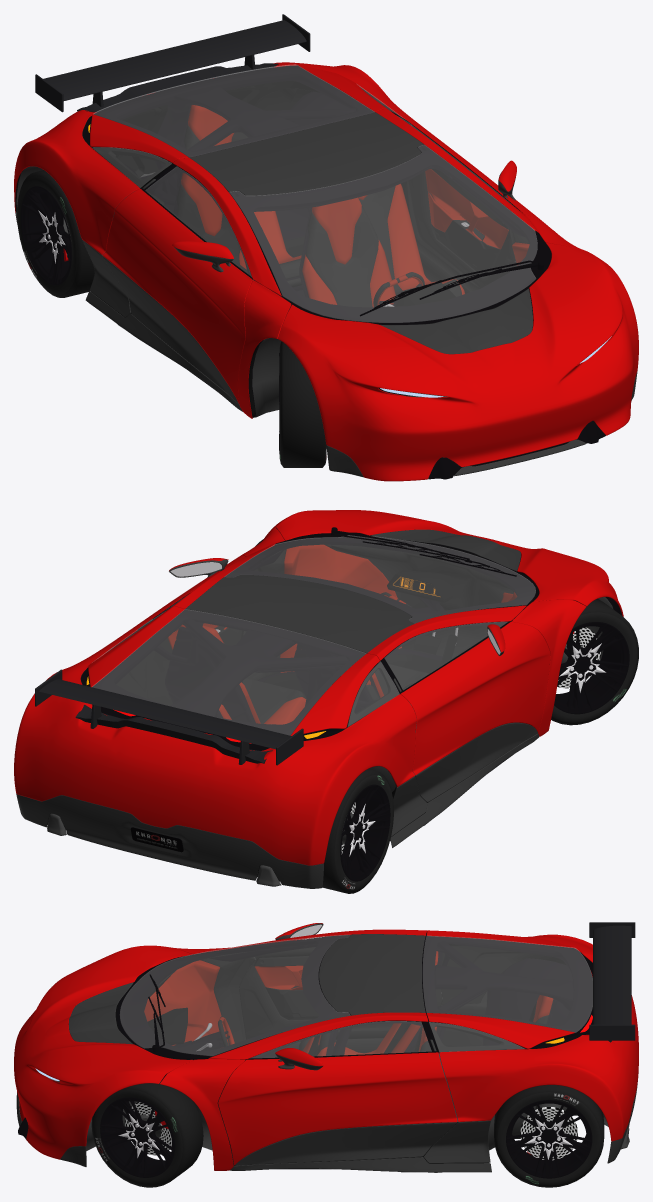
The picture shows the model from 3 angles, top to bottom: view 1: azimuth 30°, elevation 25°; view 2: azimuth 150°, elevation 25°; view 3: azimuth 270°, elevation 25°; orthographic projection. The views are drawn at different scales.
Parts seen in each view (by area): view 1: BodyHood, BodyWindshield, BodyRearwindow, BodyDoorRColor1, BodyRearPanelsColor1, BodyRoofPanel, BodyWindshieldGasket, InteriorSeatsColor1, InteriorSeatsColor2, BodyPillars, SpojlerKrilo_krilo, InteriorPillar (+23 smaller); view 2: BodyRearPanelsColor1, BodyRearwindow, BodyWindshield, BodyDoorRColor1, BodyPanelsColor2, BodyRoofPanel, BodyHood, BodyPillars, InteriorPillar, InteriorDashMid, BodyWindshieldGasket, WheelFrontRRim (+25 smaller); view 3: BodyWindshield, BodyDoorLColor1, BodyHood, BodyRearPanelsColor1, BodyRearwindow, BodyRoofPanel, BodyPillars, BodyWindshieldGasket, BodyDoorLColor2, BodyPanelsColor2, WheelFrontL, InteriorRearHatch (+27 smaller).
Boxes of the visible parts, box(x1,y1,x2,y2) form: BodyHood: box(278, 242, 638, 481); BodyWindshield: box(229, 144, 537, 322); BodyRearwindow: box(93, 64, 374, 157); BodyDoorRColor1: box(102, 188, 252, 403); BodyRearPanelsColor1: box(14, 62, 419, 254); BodyRoofPanel: box(190, 112, 423, 195); BodyWindshieldGasket: box(229, 145, 551, 324); InteriorSeatsColor1: box(181, 105, 464, 307); InteriorSeatsColor2: box(176, 125, 462, 307); BodyPillars: box(173, 108, 585, 418); SpojlerKrilo_krilo: box(43, 20, 306, 100); InteriorPillar: box(155, 85, 425, 213); BodyRearPanelsColor1: box(14, 606, 416, 865); BodyRearwindow: box(92, 609, 365, 734); BodyWindshield: box(225, 535, 535, 623); BodyDoorRColor1: box(400, 621, 550, 775); BodyPanelsColor2: box(16, 733, 539, 888); BodyRoofPanel: box(185, 575, 413, 653); BodyHood: box(272, 510, 623, 616); BodyPillars: box(171, 527, 586, 736); InteriorPillar: box(170, 610, 408, 716); InteriorDashMid: box(324, 541, 517, 657); BodyWindshieldGasket: box(225, 535, 539, 623); WheelFrontRRim: box(554, 622, 629, 714); BodyWindshield: box(120, 935, 350, 1055); BodyDoorLColor1: box(218, 1052, 457, 1165); BodyHood: box(14, 945, 192, 1159); BodyRearPanelsColor1: box(426, 930, 638, 1141); BodyRearwindow: box(423, 936, 592, 1032); BodyRoofPanel: box(319, 934, 425, 1015); BodyPillars: box(160, 929, 428, 1170); BodyWindshieldGasket: box(115, 935, 349, 1059); BodyDoorLColor2: box(235, 1122, 457, 1165); BodyPanelsColor2: box(16, 1073, 638, 1172); WheelFrontL: box(91, 1081, 203, 1187); InteriorRearHatch: box(422, 936, 592, 1049).
Size of the model in its own units: 2.54 by 1.15 by 4.36.
24 materials, 6 textured.
